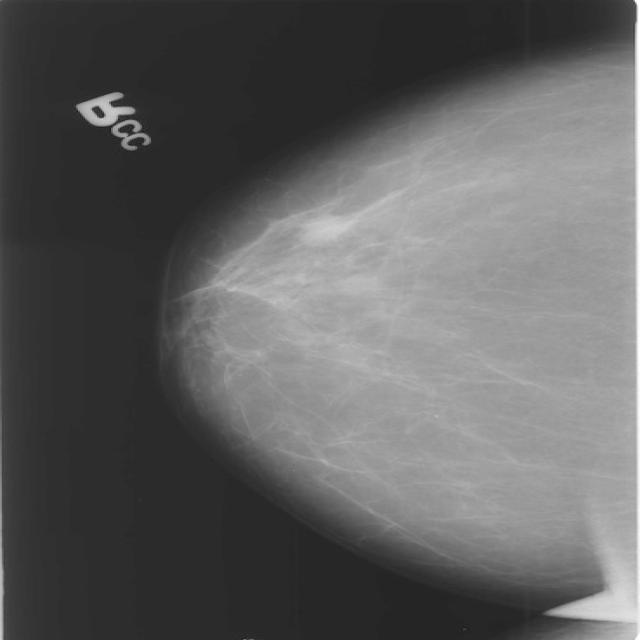tumour: (295, 213, 345, 243)
